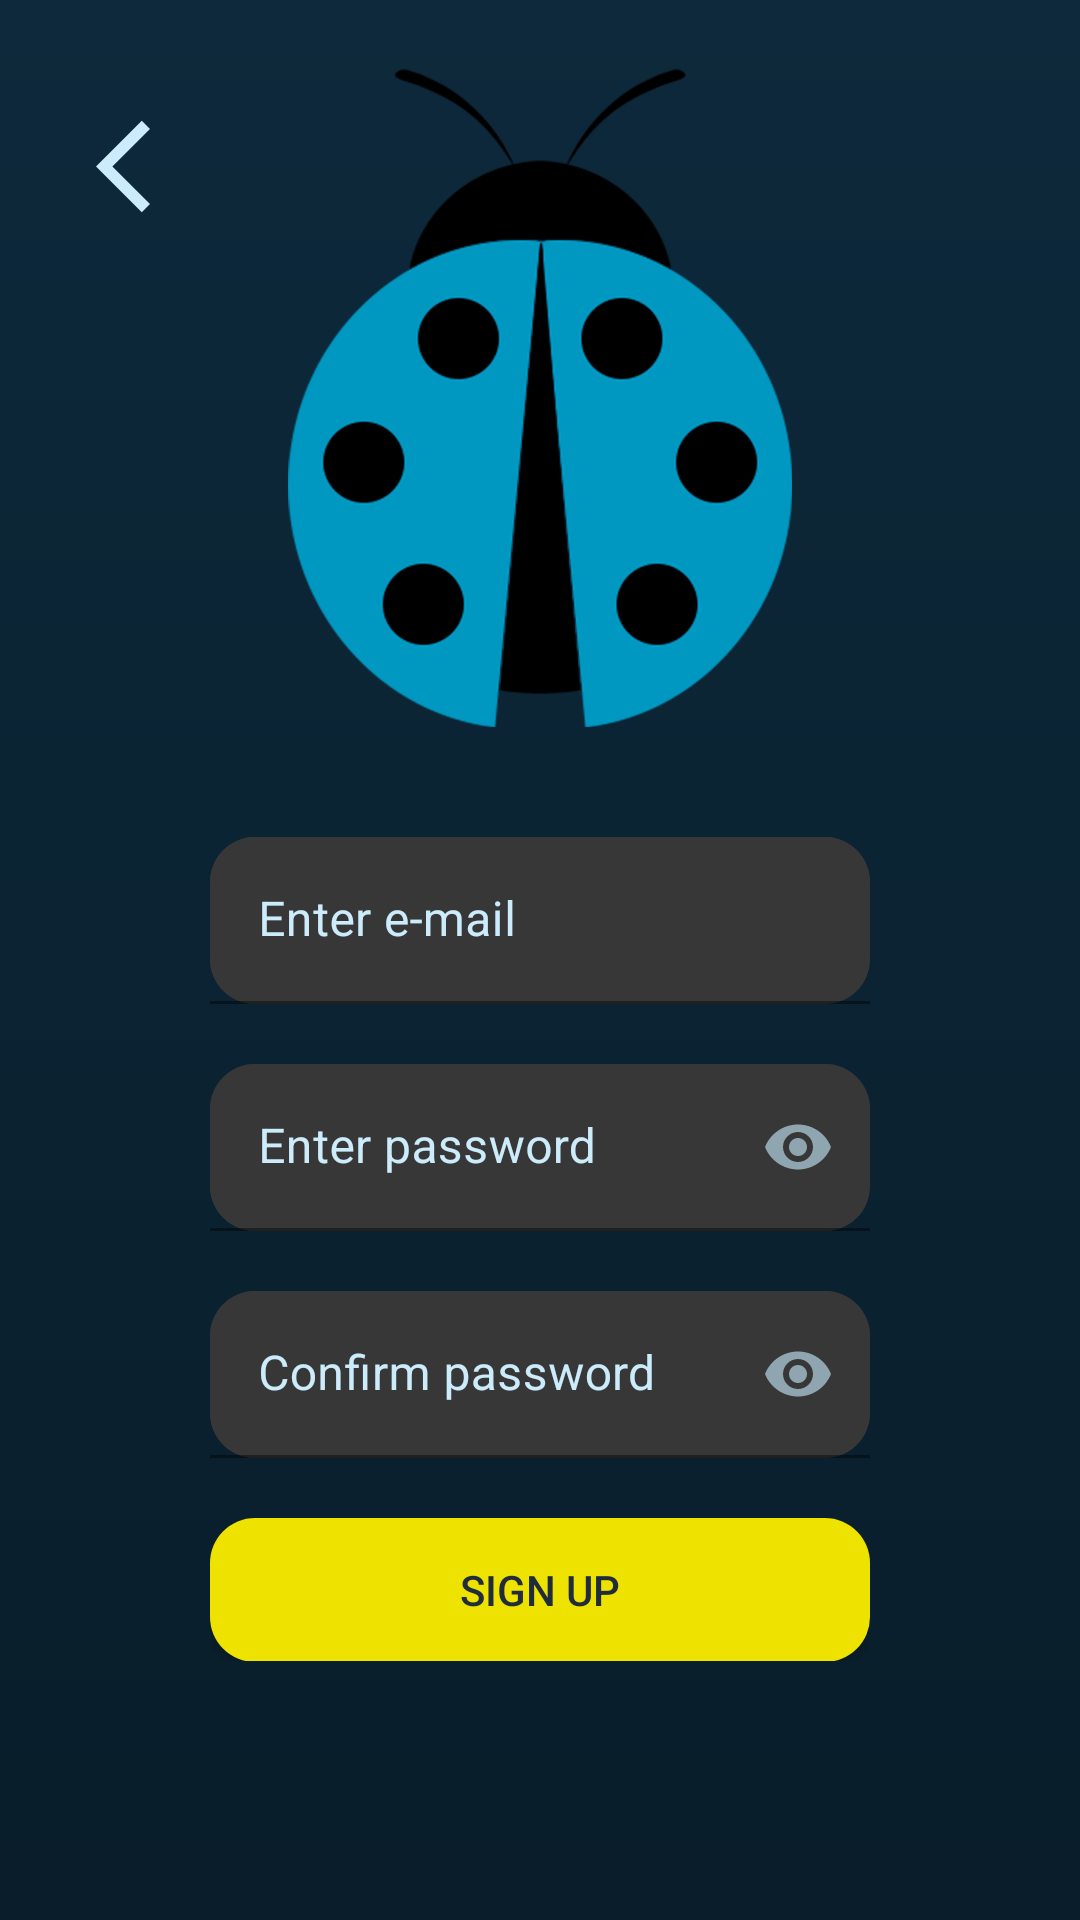

Where to tap for icons on this 1080w x 1920h app screen, as (x,y):
back arrow: (123,166)
